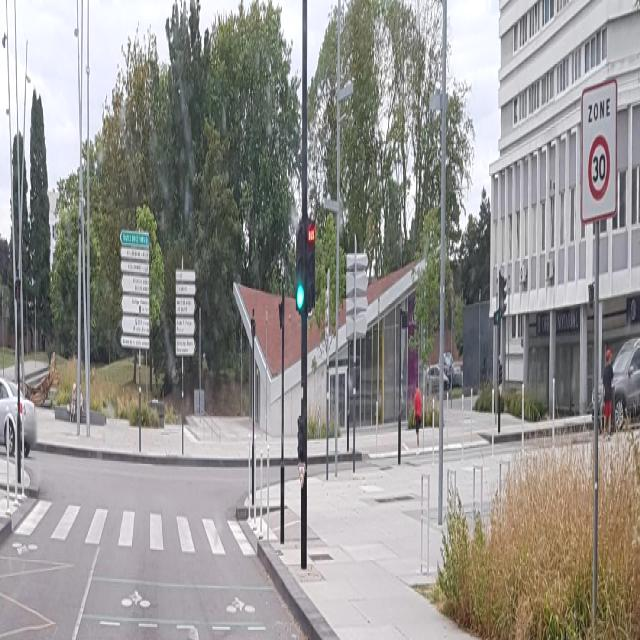speed_30: (588, 137, 610, 200)
